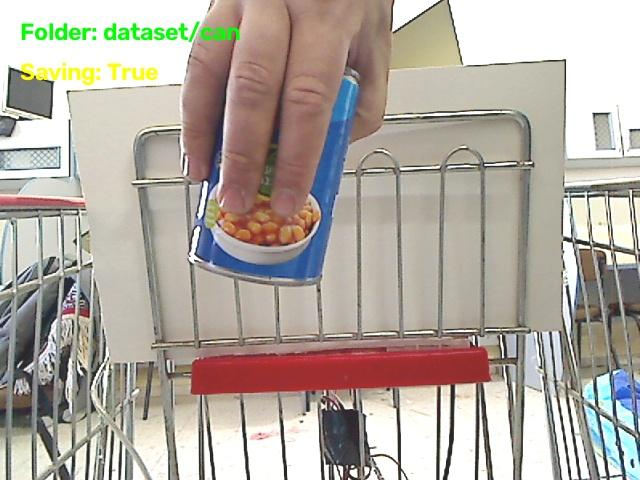can: (192, 69, 359, 282)
